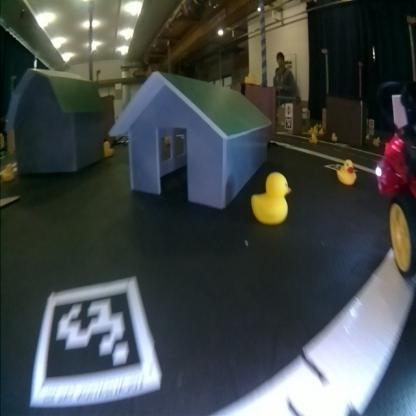Duckie: (252, 172, 292, 222), (336, 160, 358, 184), (2, 163, 16, 182), (104, 139, 114, 156), (310, 133, 318, 143), (332, 132, 338, 140)
Duckiebot: (378, 125, 415, 280)
QR code: (32, 276, 162, 406), (286, 117, 292, 127)
Signal sign: (286, 104, 292, 116)
